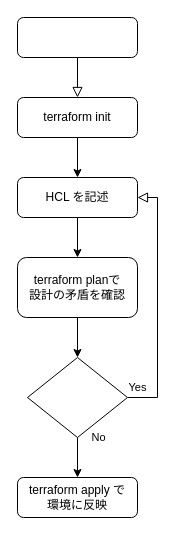
Image size: 185x535. Some labels were removed from this diagram. The centre of each missing label's shape, as x and y in pixels:
IaC の範囲を決定: point (77, 37)
エラーが 出た？: point (77, 397)
